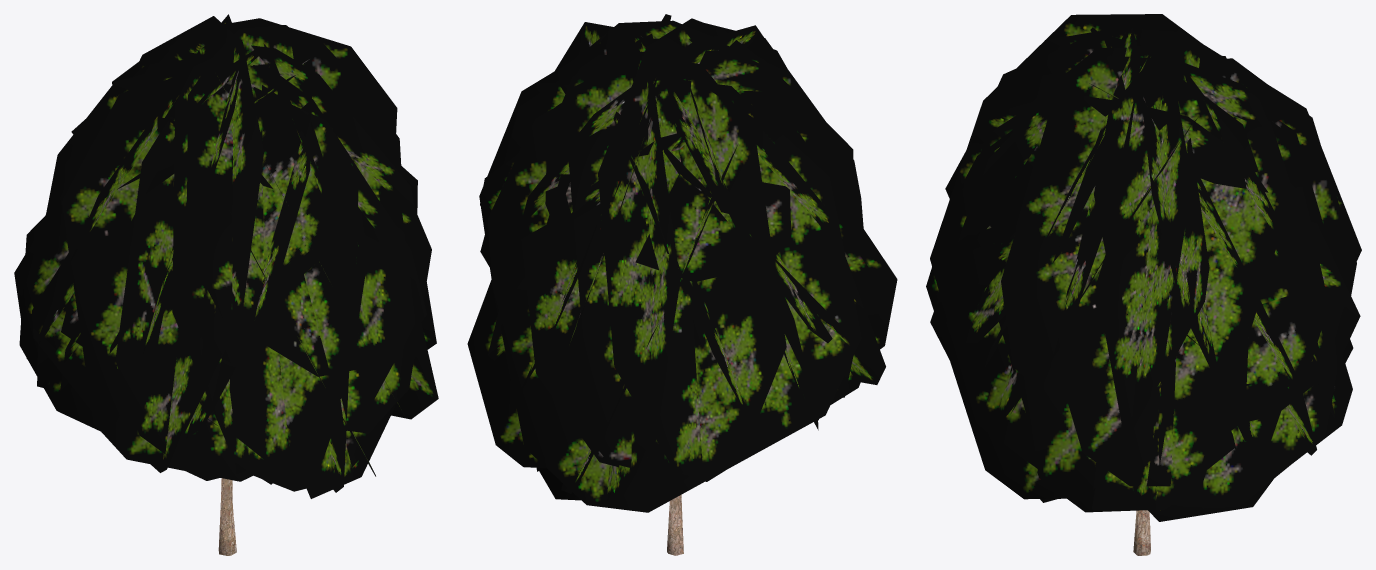
Rendered from tree3.fbx.
The picture shows the model from 3 angles, left to right: view 1: azimuth 30°, elevation 25°; view 2: azimuth 150°, elevation 25°; view 3: azimuth 270°, elevation 25°; orthographic projection.
Parts seen in each view (by area): view 1: Tree_LOD0; view 2: Tree_LOD0; view 3: Tree_LOD0.
Boxes of the visible parts, x1,y1,x2,y2 form: Tree_LOD0: (14, 14, 438, 555); Tree_LOD0: (467, 14, 897, 555); Tree_LOD0: (926, 14, 1361, 555).
Size of what is drawn, in the model's own units: 990 by 1331 by 993.
